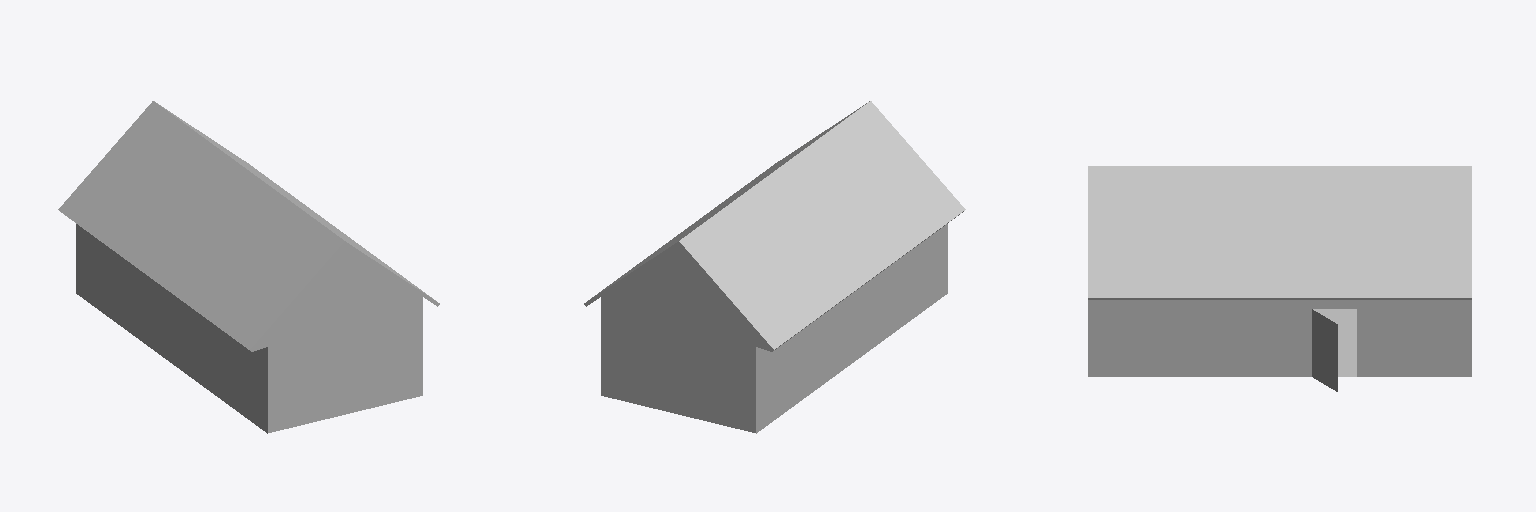
File: dom3d.obj
3 renders of one model, left to right at view 1: azimuth 30°, elevation 25°; view 2: azimuth 150°, elevation 25°; view 3: azimuth 270°, elevation 25°, orthographic.
Visible parts, largest first — view 1: Mesh1 Model; view 2: Mesh1 Model; view 3: Mesh1 Model.
Boxes of the visible parts, box(x1,y1,x2,y2) form: Mesh1 Model: box(58, 101, 439, 433); Mesh1 Model: box(584, 101, 965, 433); Mesh1 Model: box(1088, 166, 1471, 391).
Bounding box in the file's own units: 3.76 × 3.06 × 6.13.